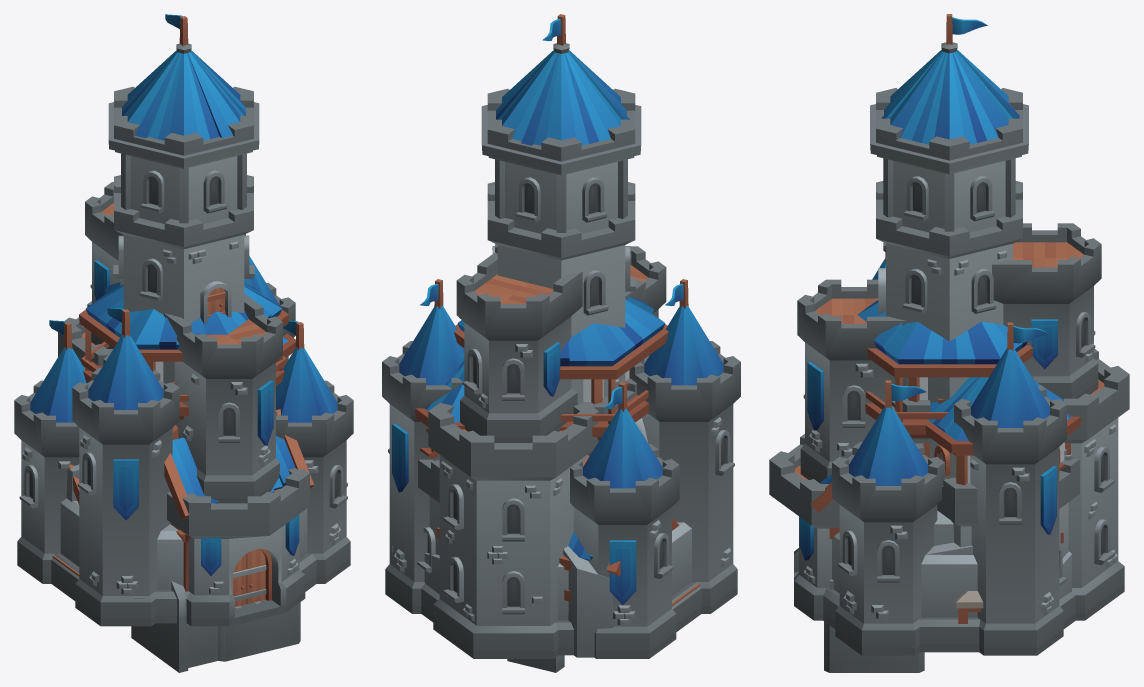
The model's file is coral.glb.
3 views of the same model, side by side, from view 1: azimuth 30°, elevation 25°; view 2: azimuth 150°, elevation 25°; view 3: azimuth 270°, elevation 25° (orthographic). The views are drawn at different scales.
Parts seen in each view (by area): view 1: building_castle_blue, building_watermill_blue, building_tower_B_top_blue; view 2: building_castle_blue, building_tower_B_top_blue, building_mine_blue, building_archeryrange_blue, building_watermill_blue; view 3: building_castle_blue, building_tower_B_top_blue, building_archeryrange_blue, building_watermill_blue, building_mine_blue, building_market_blue.
Boxes of the visible parts, left/top/right/bottom form: building_castle_blue: left=14, top=14, right=353, bottom=626; building_watermill_blue: left=131, top=409, right=313, bottom=672; building_tower_B_top_blue: left=79, top=281, right=288, bottom=419; building_castle_blue: left=382, top=14, right=740, bottom=658; building_tower_B_top_blue: left=454, top=296, right=668, bottom=440; building_mine_blue: left=424, top=546, right=613, bottom=657; building_archeryrange_blue: left=415, top=352, right=679, bottom=576; building_watermill_blue: left=507, top=655, right=564, bottom=672; building_castle_blue: left=769, top=14, right=1129, bottom=655; building_tower_B_top_blue: left=857, top=300, right=1033, bottom=438; building_archeryrange_blue: left=918, top=376, right=1080, bottom=586; building_watermill_blue: left=811, top=474, right=924, bottom=672; building_mine_blue: left=926, top=510, right=1071, bottom=599; building_market_blue: left=956, top=531, right=1063, bottom=623.
Size of the model in its own units: 1.98 by 4.33 by 2.26.
1 material, 1 textured.
